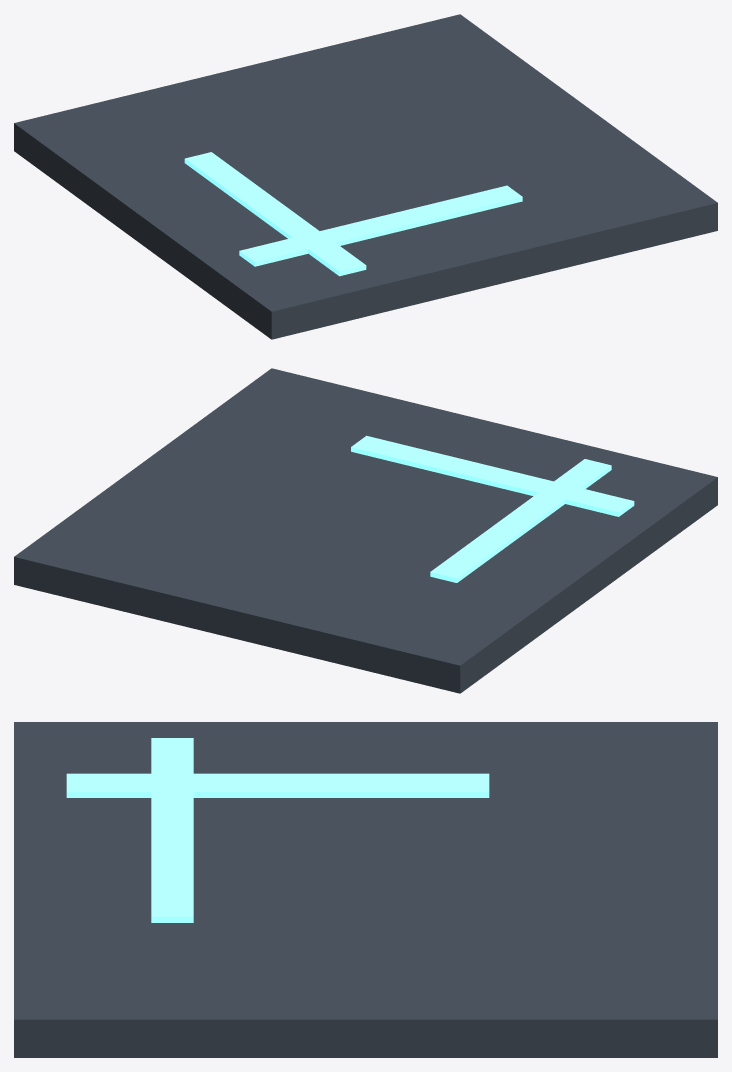
Rendered from np_kms_02_sol_angle.glb.
3 renders of one model, top to bottom at view 1: azimuth 30°, elevation 25°; view 2: azimuth 150°, elevation 25°; view 3: azimuth 270°, elevation 25°, orthographic. The views are drawn at different scales.
Parts seen in each view (by area): view 1: Dalle, GuideZ, GuideX; view 2: Dalle, GuideZ, GuideX; view 3: Dalle, GuideX, GuideZ.
Boxes of the visible parts, <box> form: Dalle: <box>14,14,717,339</box>; GuideZ: <box>239,185,522,266</box>; GuideX: <box>184,152,366,276</box>; Dalle: <box>14,368,717,693</box>; GuideZ: <box>351,435,634,516</box>; GuideX: <box>430,459,611,582</box>; Dalle: <box>14,722,717,1057</box>; GuideX: <box>66,773,489,797</box>; GuideZ: <box>151,738,193,922</box>.
Size of the model in its own units: 2 by 0.14 by 2.
